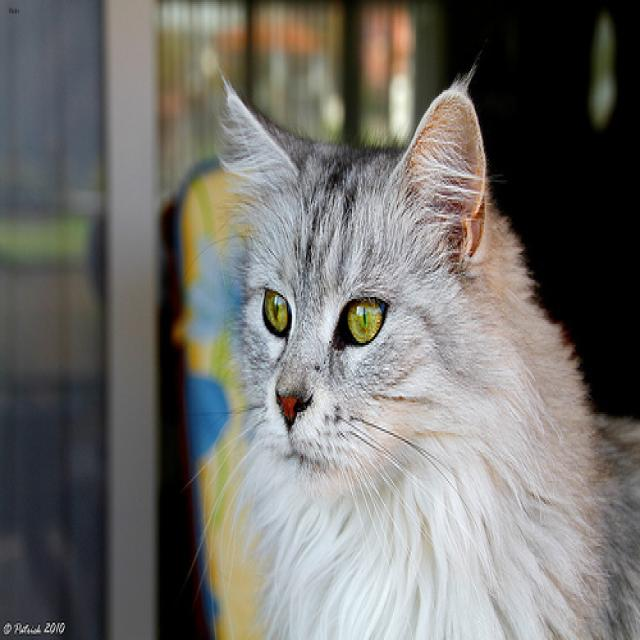cat: (224, 82, 485, 490)
